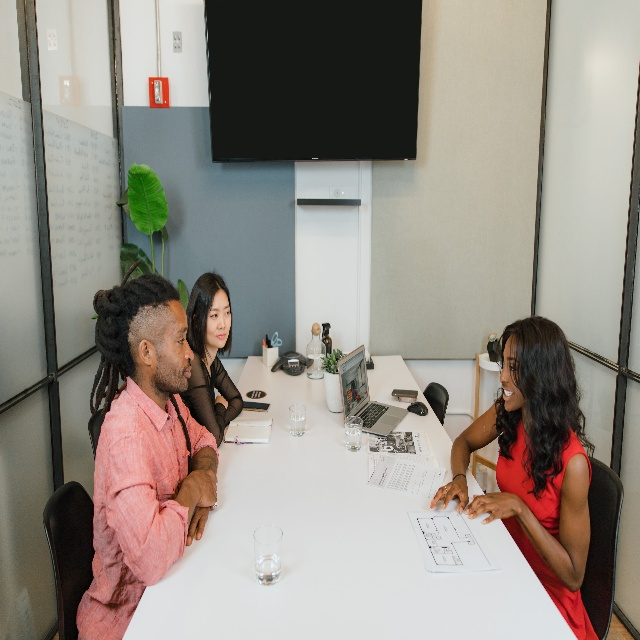Sin_guantes: (464, 486, 517, 524), (181, 468, 219, 511), (429, 476, 469, 515), (186, 502, 212, 548), (214, 392, 229, 409)
